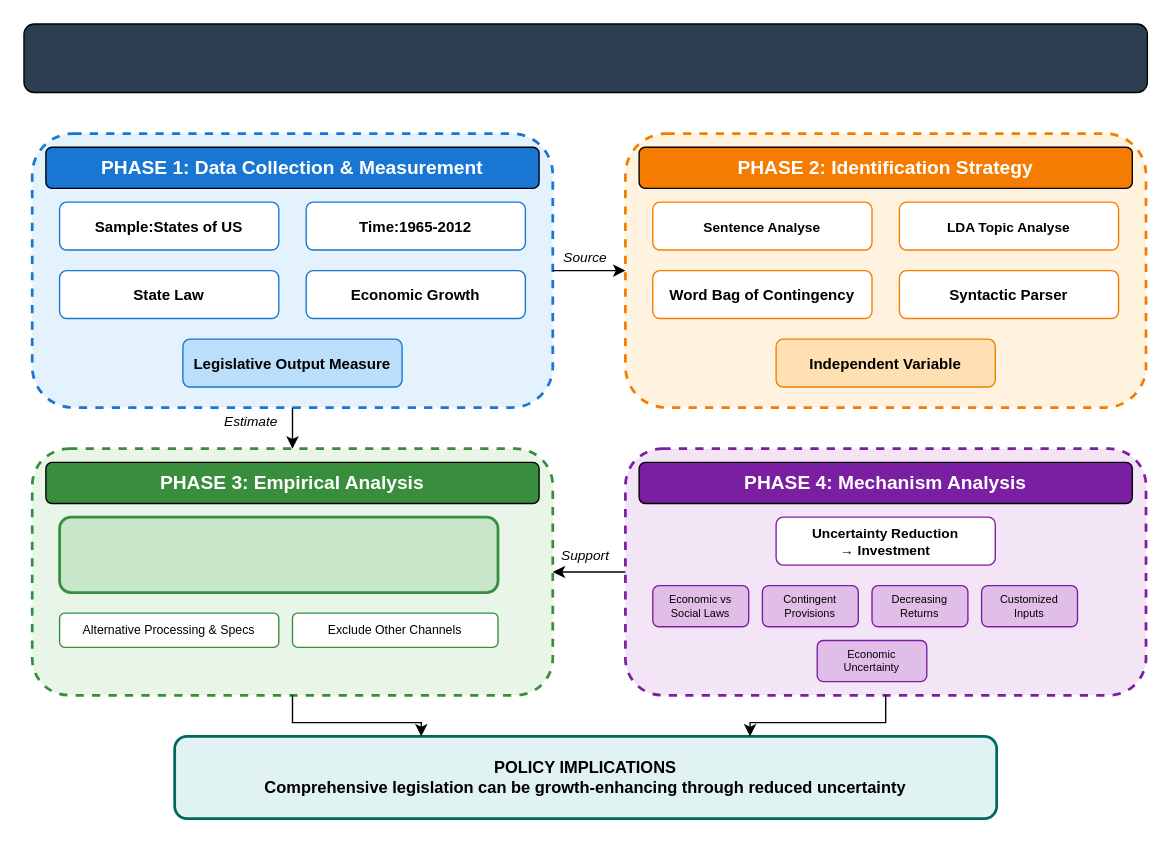
Some shapes in this 1171 by 844 pixel diagram are drawn without their labels. Here are the shapes that lost their labels. From the top down, the centre of each, then its label:
At (x=585, y=57): "Research Framework: Legislative Output and Economic Growth".
At (x=278, y=554): "MAIN FINDING More Laws → Higher Growth +10% legislation = +0.15pp GDP growth".
